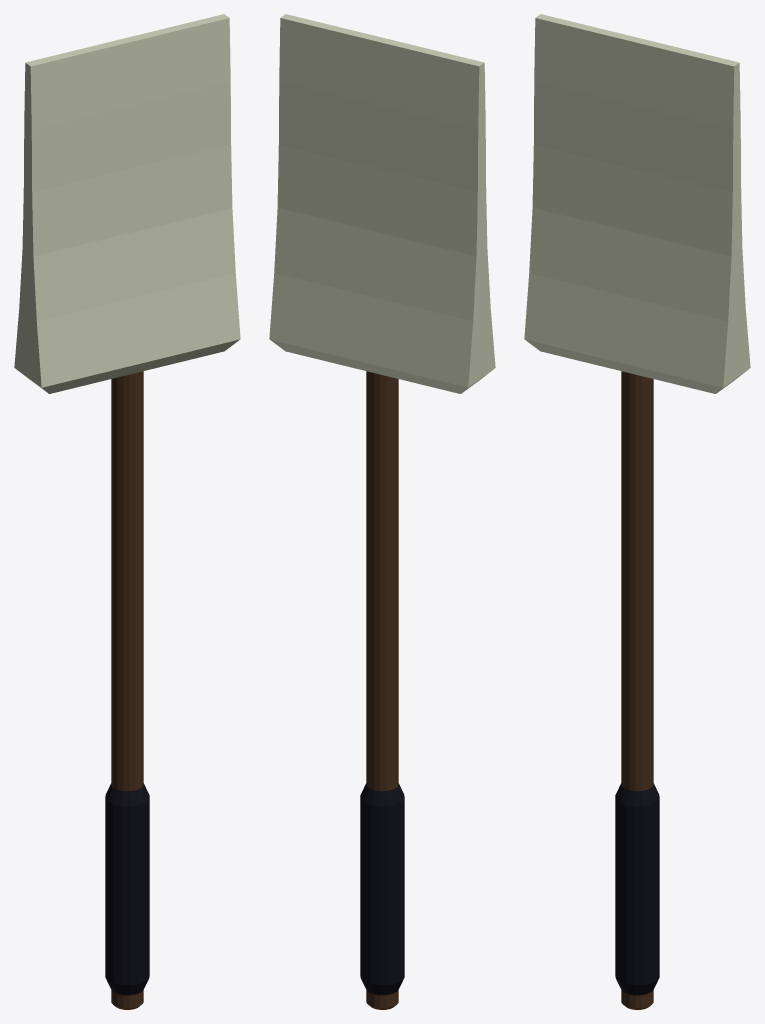
The model's file is Mallet.fbx.
The picture shows the model from 3 angles, left to right: view 1: azimuth 30°, elevation 25°; view 2: azimuth 150°, elevation 25°; view 3: azimuth 330°, elevation 25°; orthographic projection.
Parts seen in each view (by area): view 1: Cylinder.004; view 2: Cylinder.004; view 3: Cylinder.004.
Part boxes in pixels (left/top/right/bottom): Cylinder.004: left=14, top=14, right=240, bottom=1009; Cylinder.004: left=269, top=14, right=495, bottom=1009; Cylinder.004: left=524, top=14, right=750, bottom=1009.
Size of the model in its own units: 54.38 by 252 by 12.94.
